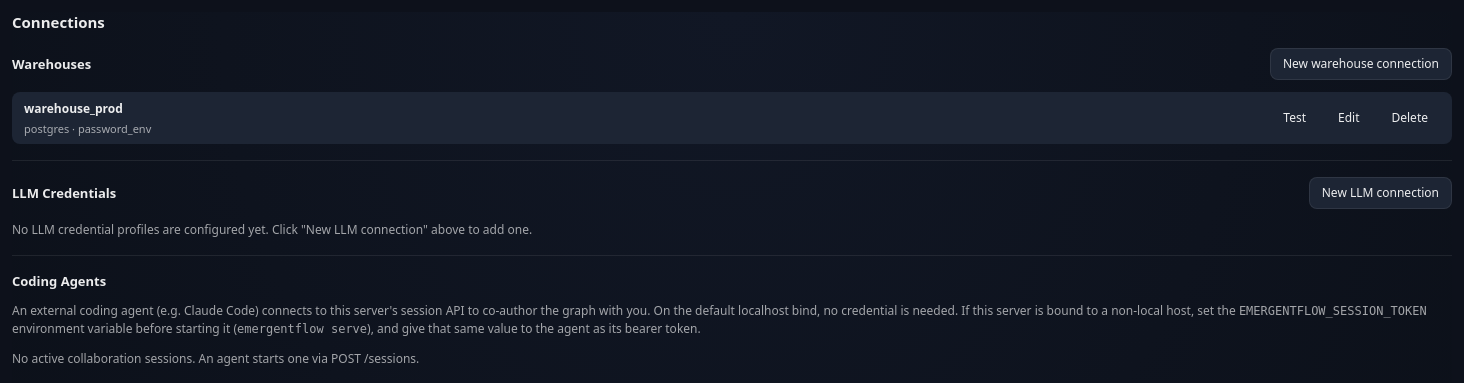
it: test button shows success message on successful test
The image size is (1464, 383).
Expected: the element with test id "connection-row-warehouse_prod" is shown, [12,92,1452,144]
Click the button with test id "connection-test-warehouse_prod" at (1295, 118), box [1271,102,1318,134]
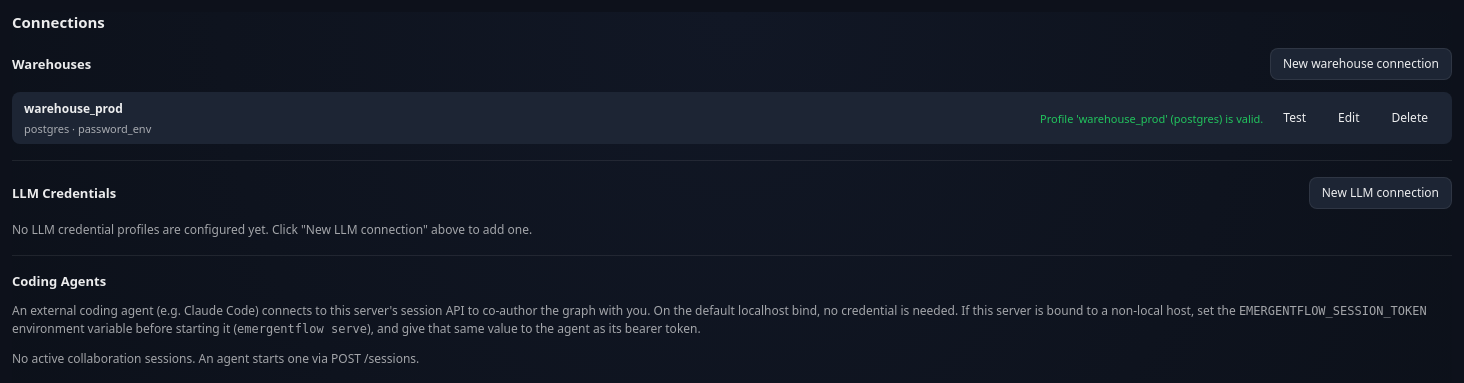
Now the text with test id "connection-status-warehouse_prod" reads "Profile 'warehouse_prod' (postgres) is valid.", box [1040,110,1263,126]
